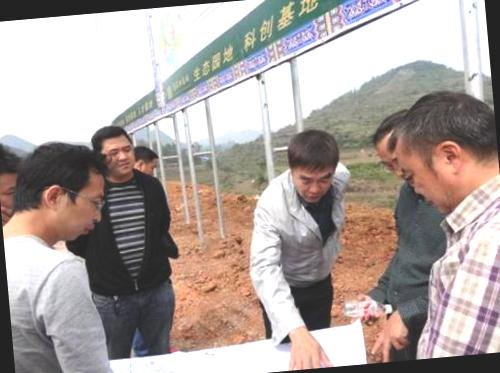no_helmet: (385, 84, 500, 226), (12, 132, 112, 246), (277, 120, 348, 205), (370, 108, 428, 200), (88, 121, 139, 182), (126, 140, 167, 184)
